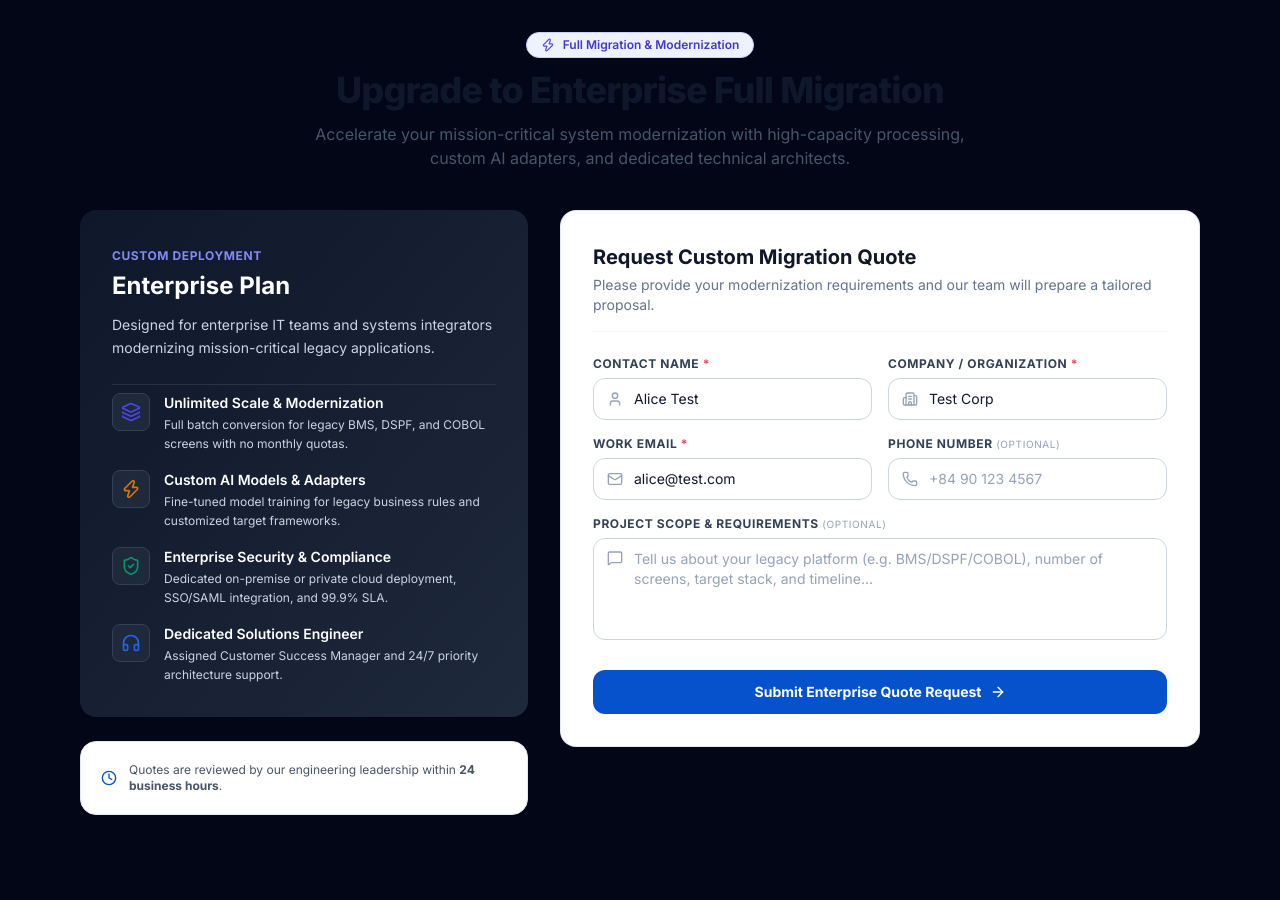
Test: RequestEnterprisePage › displays conflict error message when QUOTE_REQUEST_EXISTS error occurs
This screenshot has width=1280, height=900.
Click the button "Submit Enterprise Quote Request": (880, 692) [593,670,1167,714]
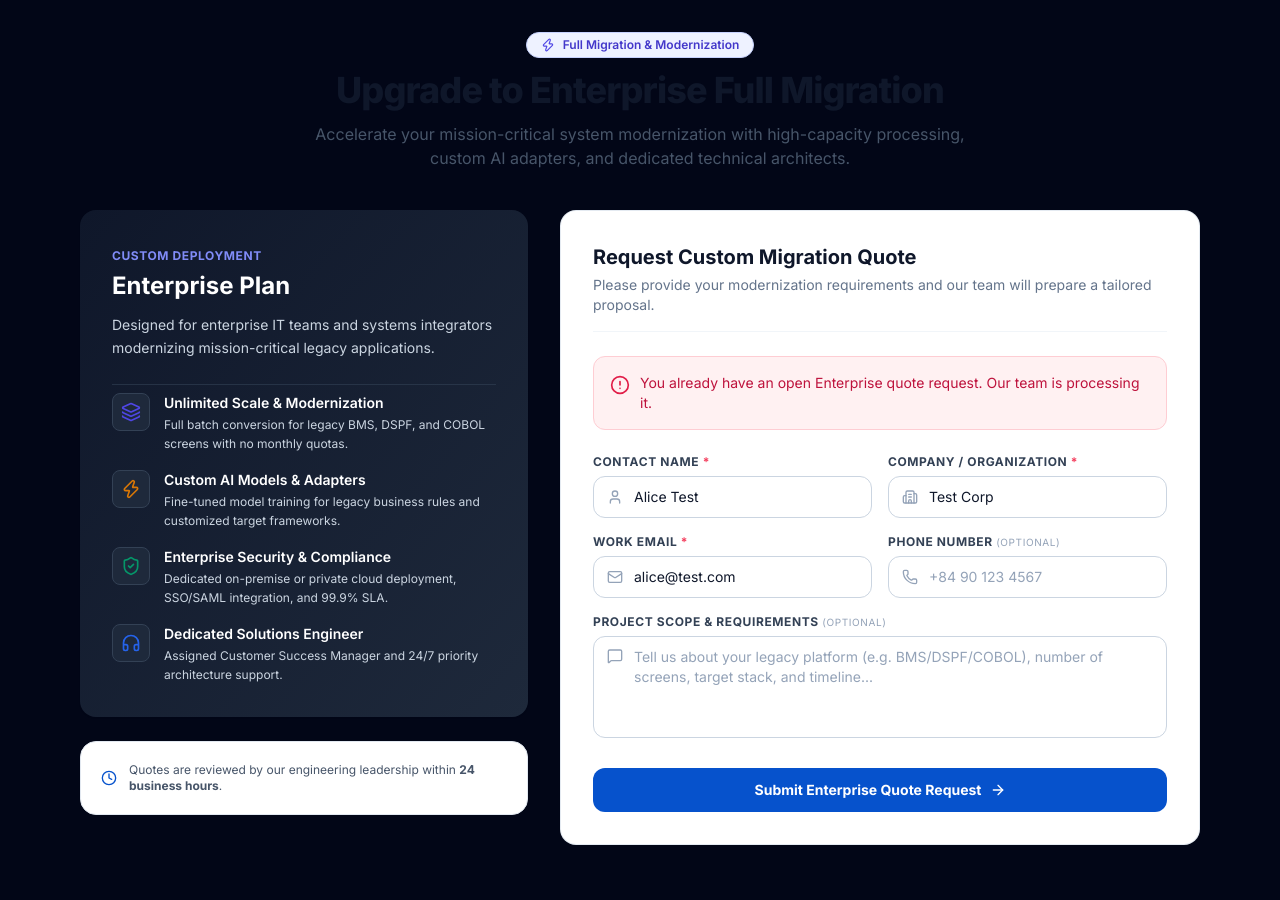
Check: the text "You already have an open Enterprise quote request. Our team is processing it." is shown, box [640,373,1150,413]
